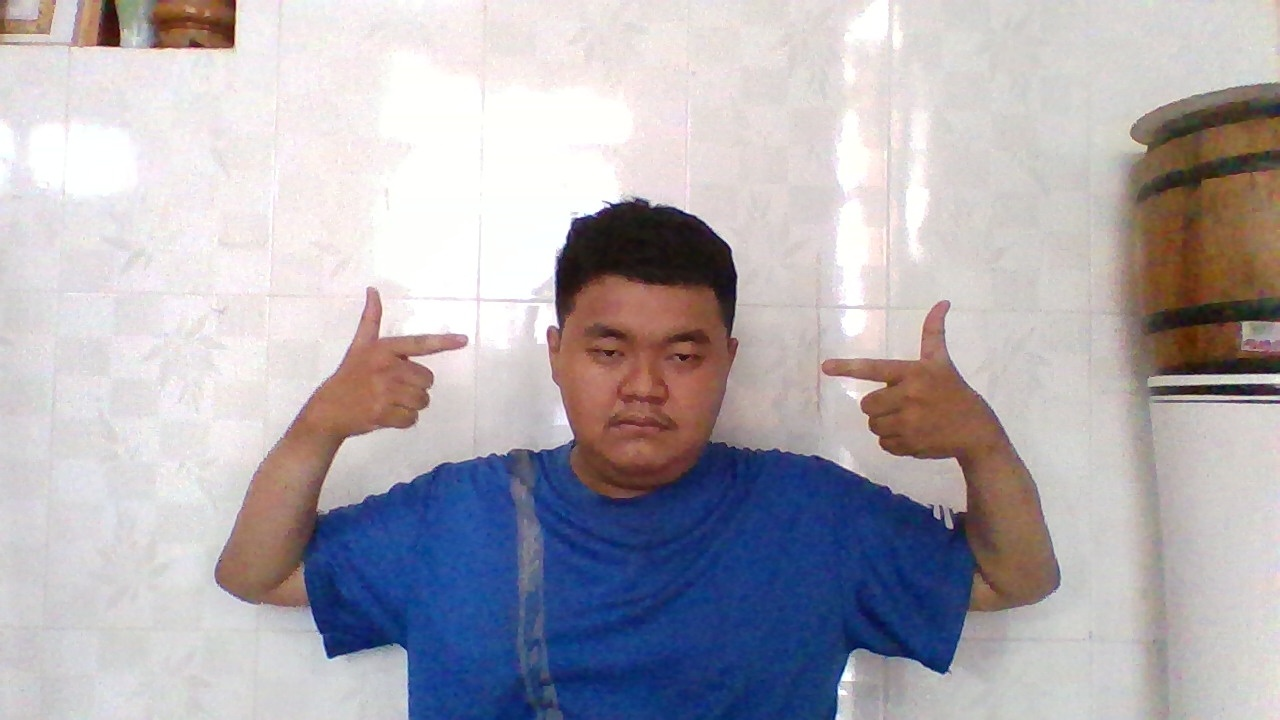G: (806, 290, 996, 461), (306, 277, 481, 438)
